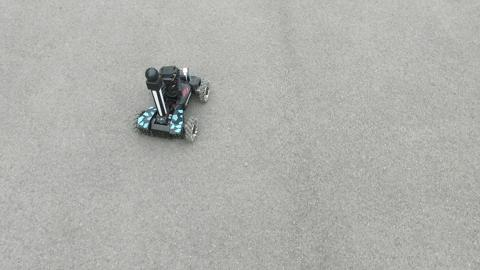chariot: (120, 57, 219, 150)
